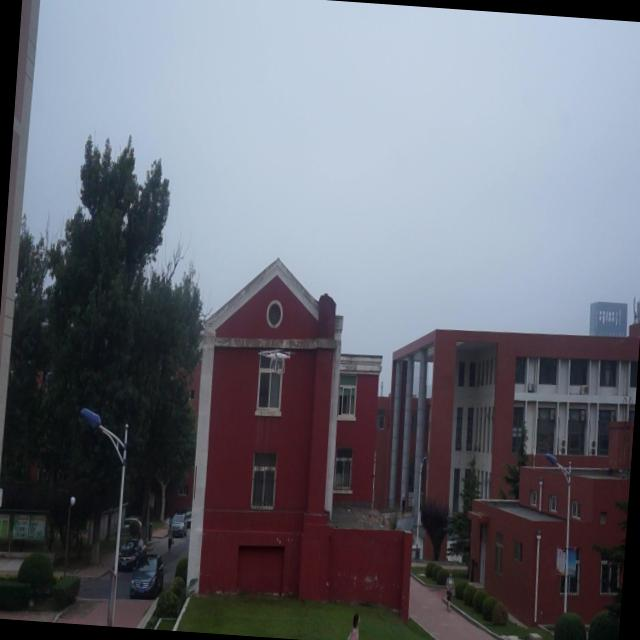drone: (258, 340, 293, 378)
